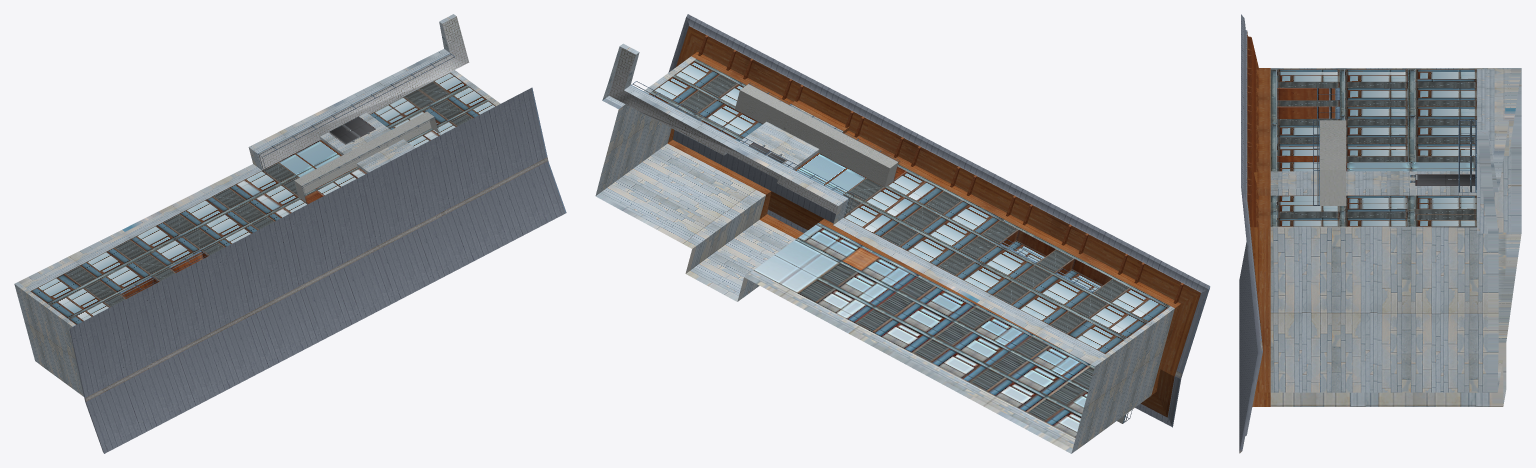
Rendered from Wismari_5.obj.
3 views of the same model, side by side, from view 1: azimuth 30°, elevation 25°; view 2: azimuth 150°, elevation 25°; view 3: azimuth 270°, elevation 25° (orthographic). The views are drawn at different scales.
Parts seen in each view (by area): view 1: Wismari_5; view 2: Wismari_5; view 3: Wismari_5.
Part boxes in pixels (x1=…): Wismari_5: x1=14, y1=14, x2=566, y2=453; Wismari_5: x1=595, y1=14, x2=1210, y2=453; Wismari_5: x1=1239, y1=14, x2=1521, y2=453.
Size of the model in its own units: 48.46 by 26.72 by 13.44.
Materials: 2 (2 with a texture image).
